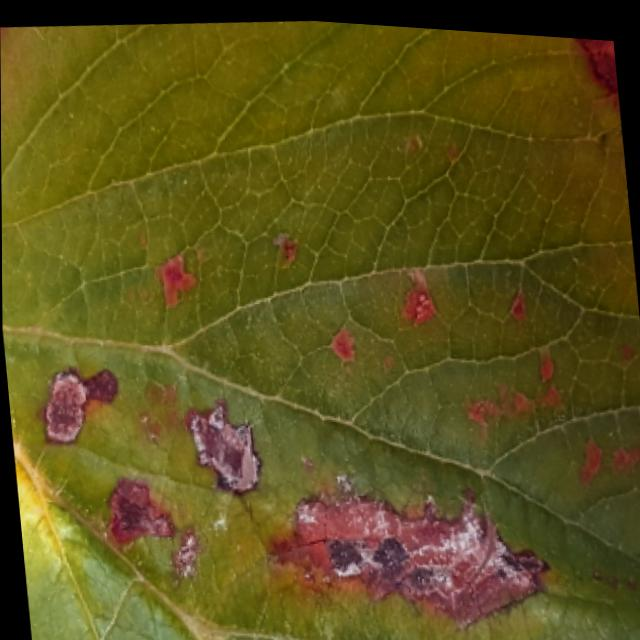Angular Leafspot: (10, 103, 640, 624)
